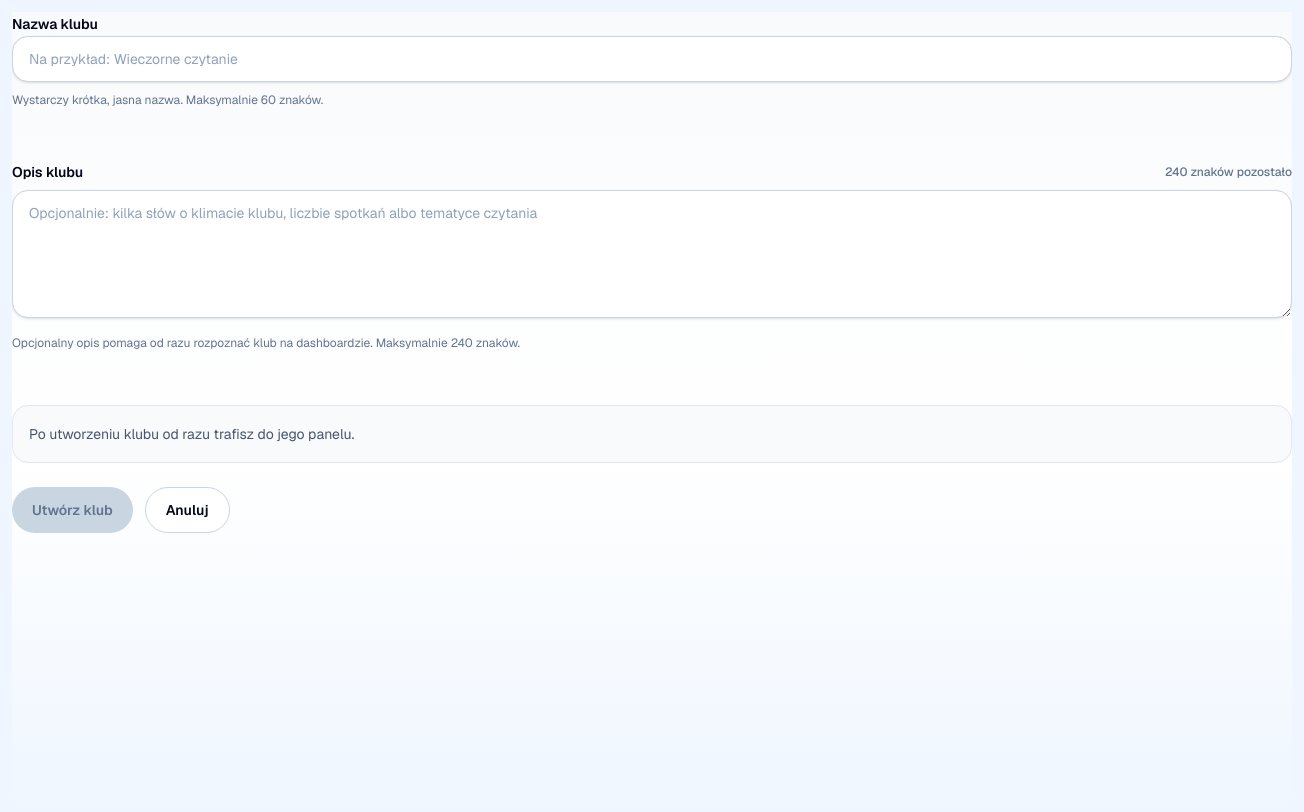
Test: CreateClubForm › shows a user-friendly error message when the mock returns an error
Type "Sunset Readers" into the field labelled "Nazwa klubu".
click(652, 59); type("Sunset Readers")  # box [12,36,1292,82]
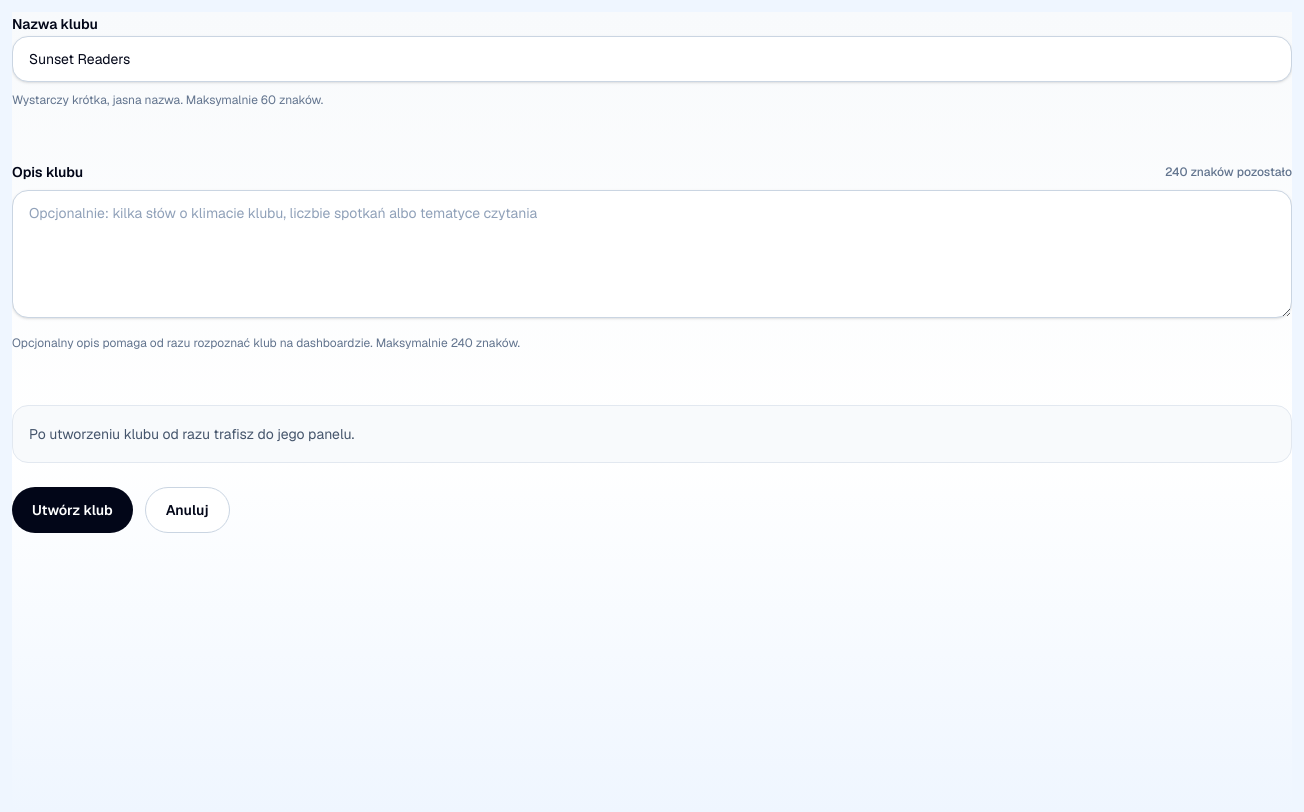
Click the button "Utwórz klub".
click(72, 510)  # box [12,487,133,533]
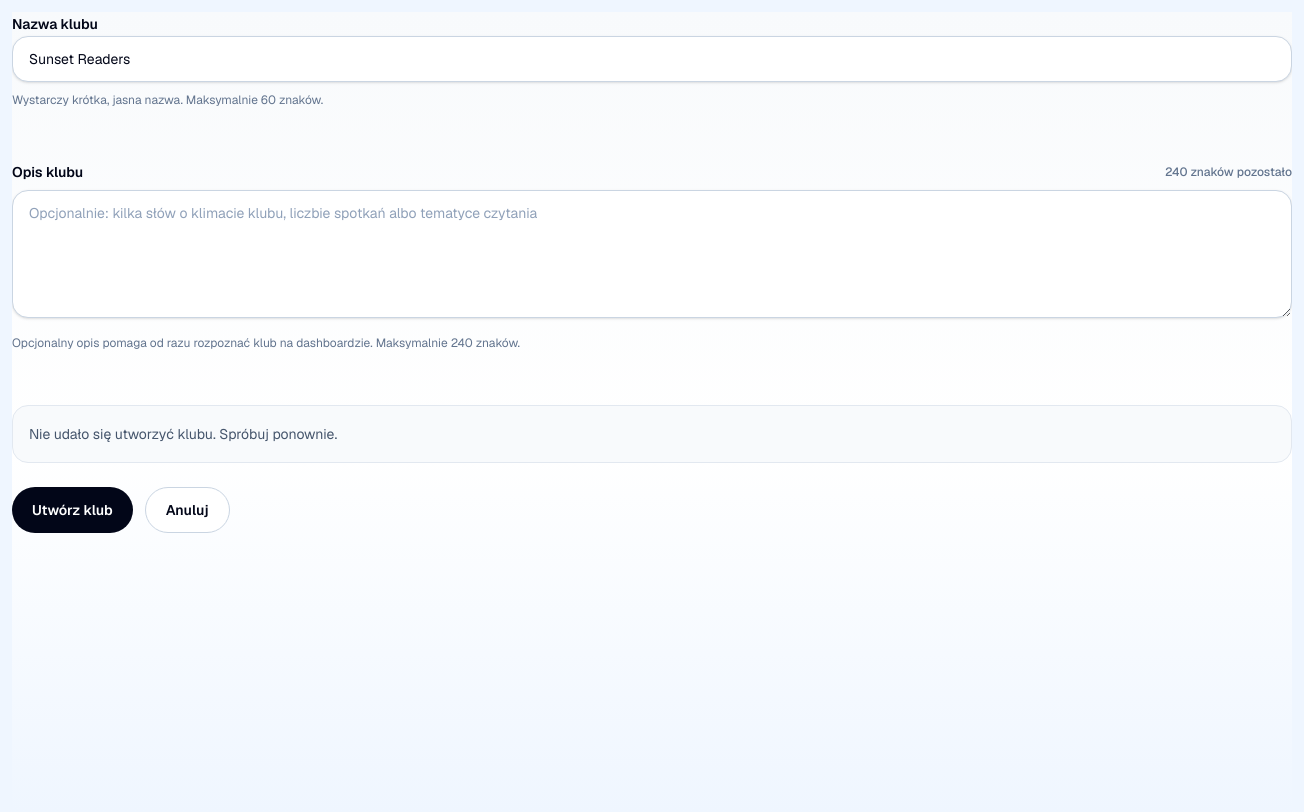
Check: the text "Nie udało się utworzyć klubu. Spróbuj ponownie." is shown, box [12,405,1292,463]
